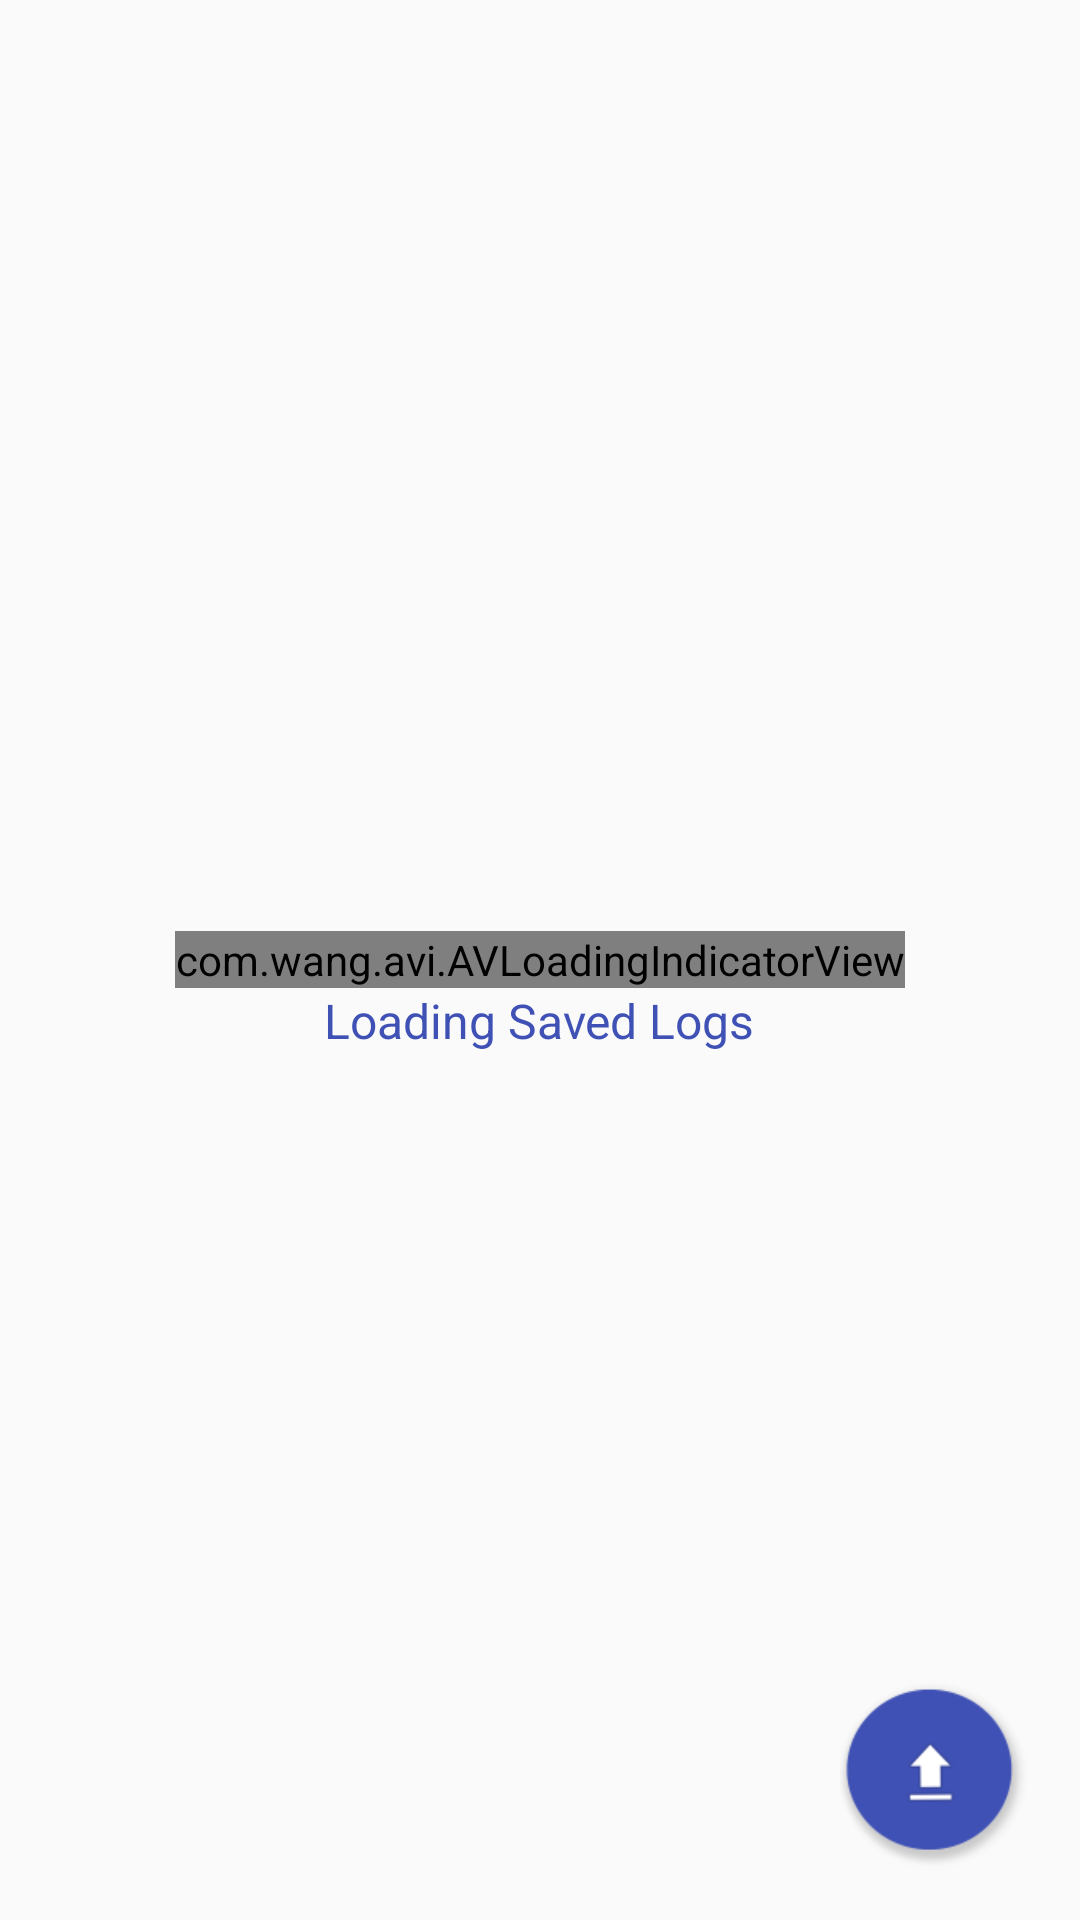

Icons on this 1080×1920 Android screen, each with its box as (x1, y1, x2, y2):
upload fab: (845, 1689, 1018, 1860)
